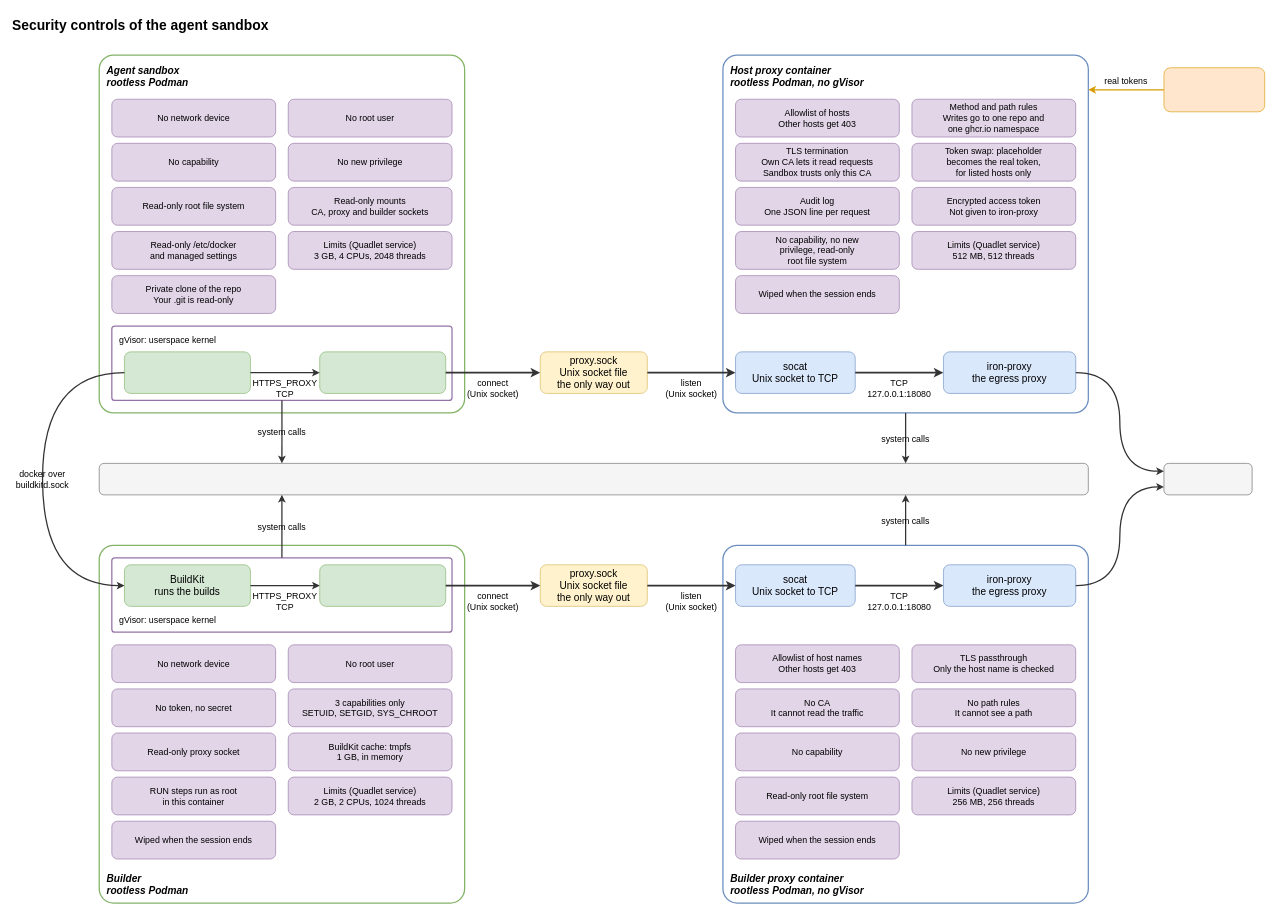
The diagram is 1276 pixels wide and 914 high, and some of its shapes have lost their labels. Each missing label, with the centre of its shape:
Agent tools placeholders only: the point at 187,372
Bitwarden Secrets Manager: the point at 1214,89
Host kernel: the point at 593,479
Internet: the point at 1207,479
socat relay TCP 127.0.0.1:3128 to Unix socket: the point at 382,372
socat relay TCP 127.0.0.1:3129 to Unix socket: the point at 382,585
